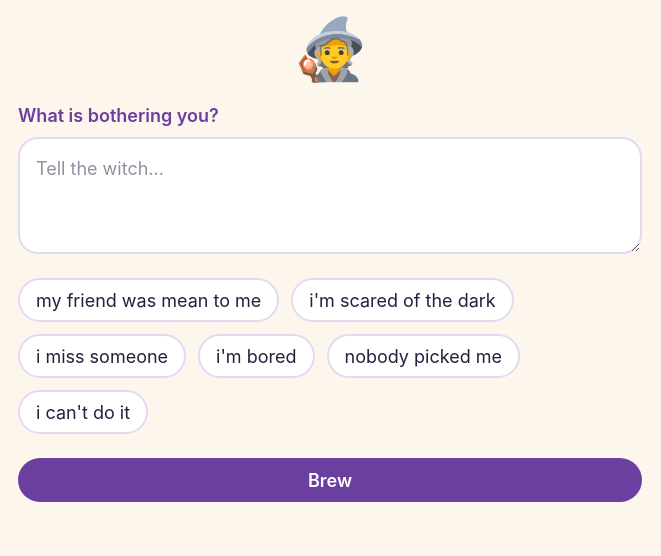
App › refuses an empty trouble with a visible message and does not start brewing
Click the button "Brew".
click(330, 480)  # box [18,458,642,502]
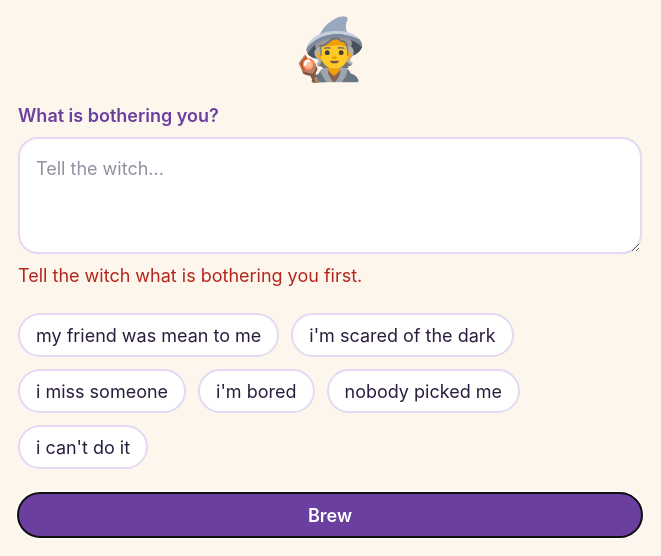
Expected: the button "Brew" is enabled, [18,493,642,537]
Expected: the message shows "Tell the witch", [18,265,362,286]
